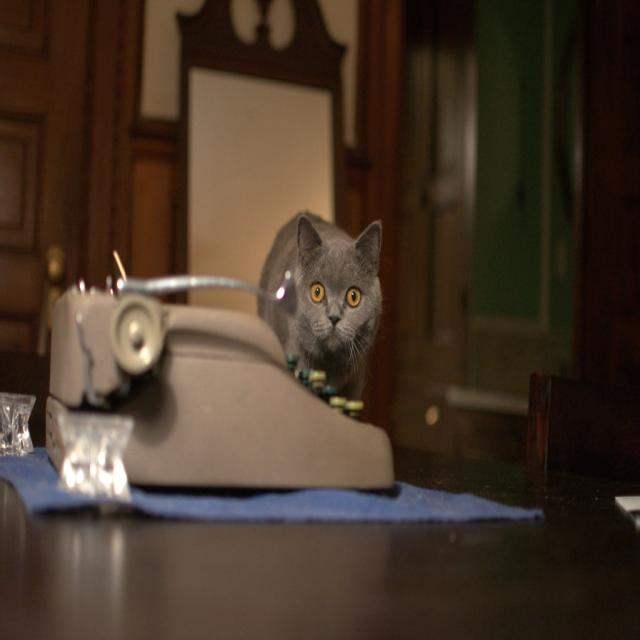Cat: (254, 206, 386, 399)
